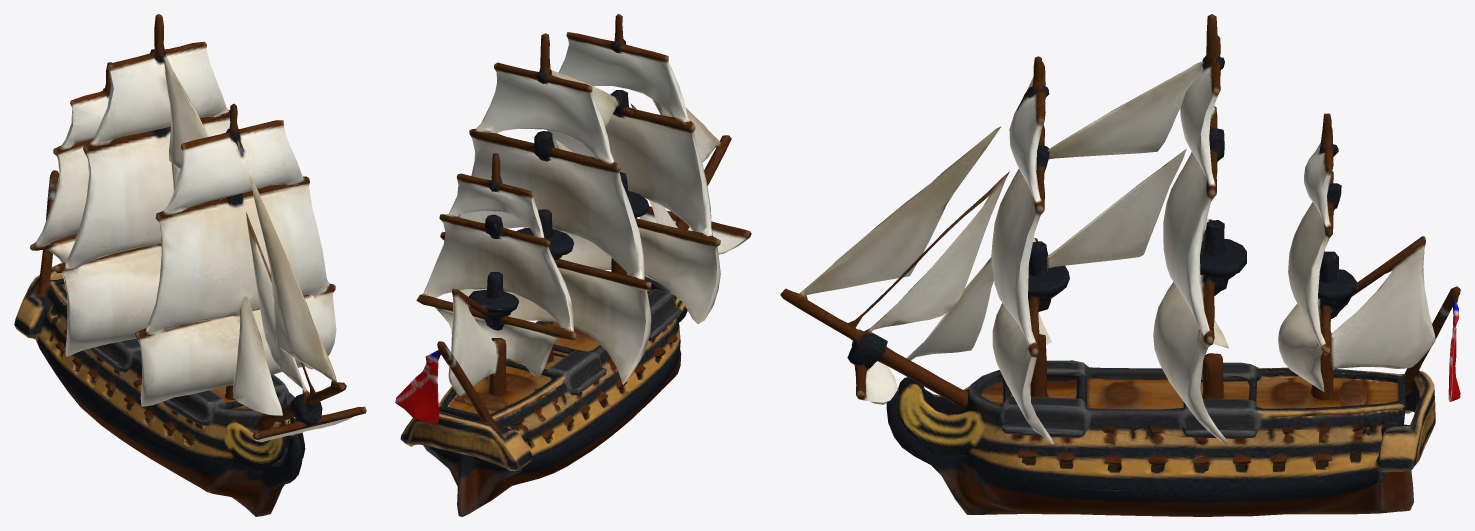
Rendered from ship_a.glb.
The picture shows the model from 3 angles, left to right: view 1: azimuth 30°, elevation 25°; view 2: azimuth 150°, elevation 25°; view 3: azimuth 270°, elevation 25°; orthographic projection. The views are drawn at different scales.
Visible parts, largest first — view 1: world; view 2: world; view 3: world.
Part boxes in pixels (x1,y1,x2,y2): world: (14, 14, 366, 516); world: (395, 14, 751, 516); world: (780, 14, 1460, 516).
Bounding box in the file's own units: 0.4204 × 0.808 × 1.
1 material, 1 textured.
